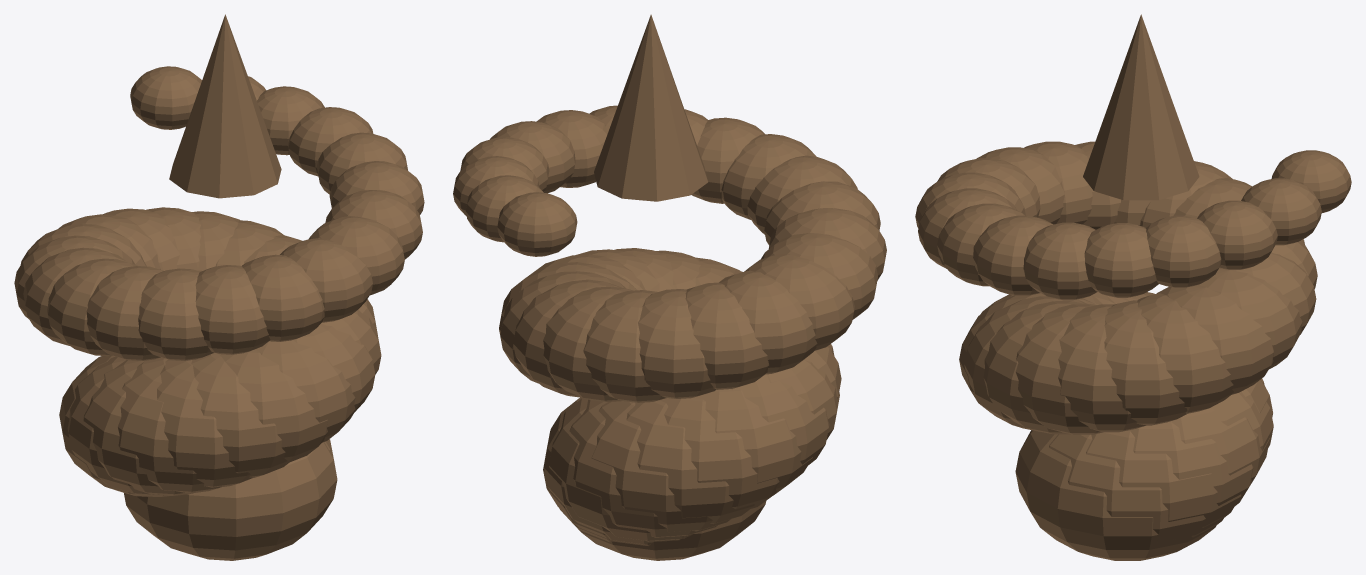
File: poop.glb
3 renders of one model, left to right at view 1: azimuth 30°, elevation 25°; view 2: azimuth 150°, elevation 25°; view 3: azimuth 270°, elevation 25°, orthographic.
Parts seen in each view (by area): view 1: Poop; view 2: Poop; view 3: Poop.
Part boxes in pixels (x1,y1,x2,y2): Poop: [14, 14, 424, 560]; Poop: [453, 14, 886, 560]; Poop: [915, 14, 1351, 560].
Bounding box in the file's own units: 0.9399 × 1.32 × 0.9722.
